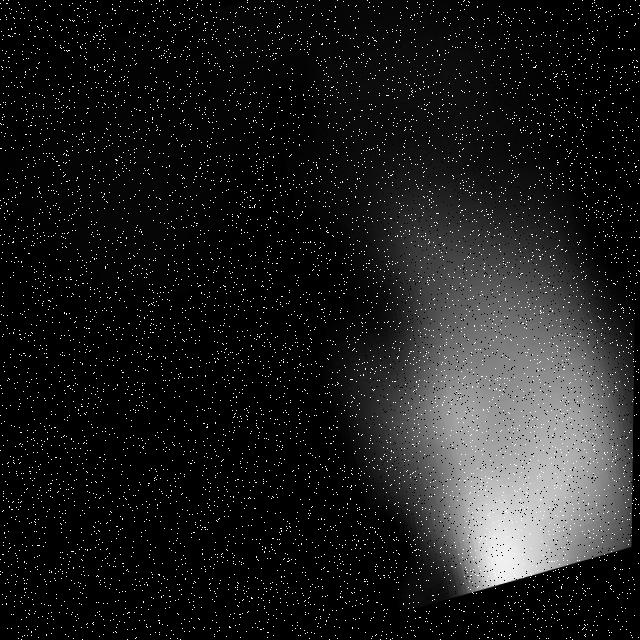person: (346, 177, 639, 610)
